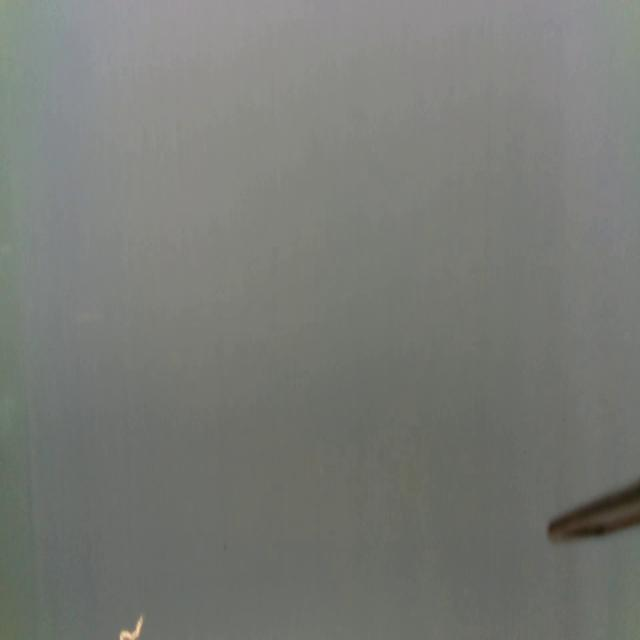hole: (118, 616, 143, 640)
